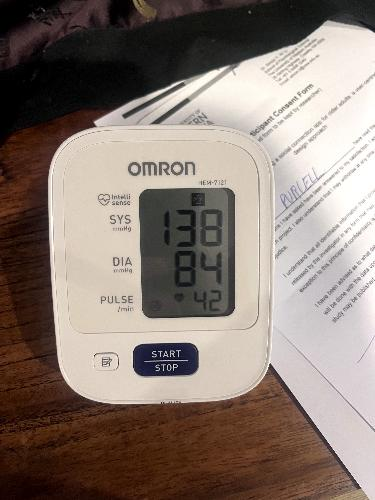bpm: (138, 187, 234, 315)
